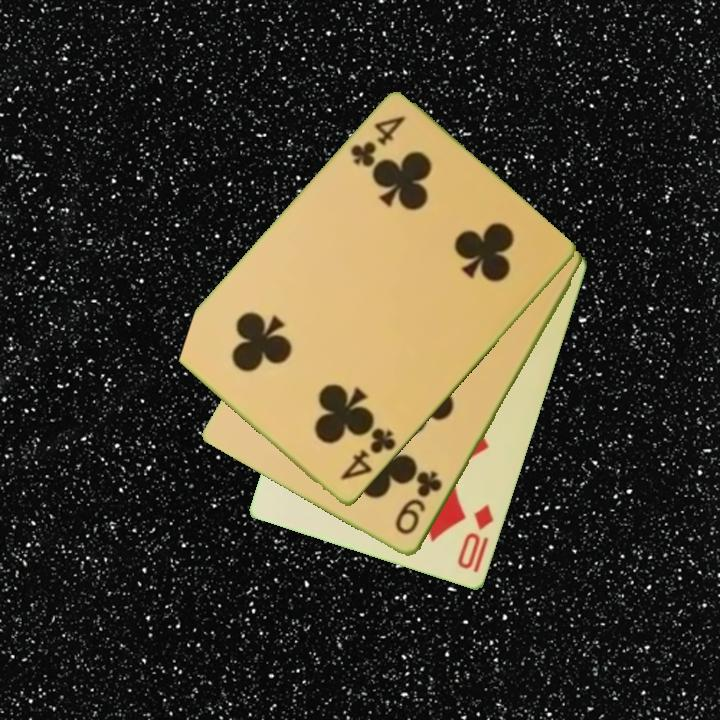10d: (454, 501, 497, 573)
4c: (336, 425, 399, 484), (346, 112, 409, 171)
9c: (391, 468, 446, 539)
